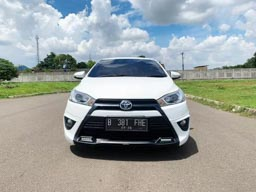plat: (107, 118, 147, 126)
